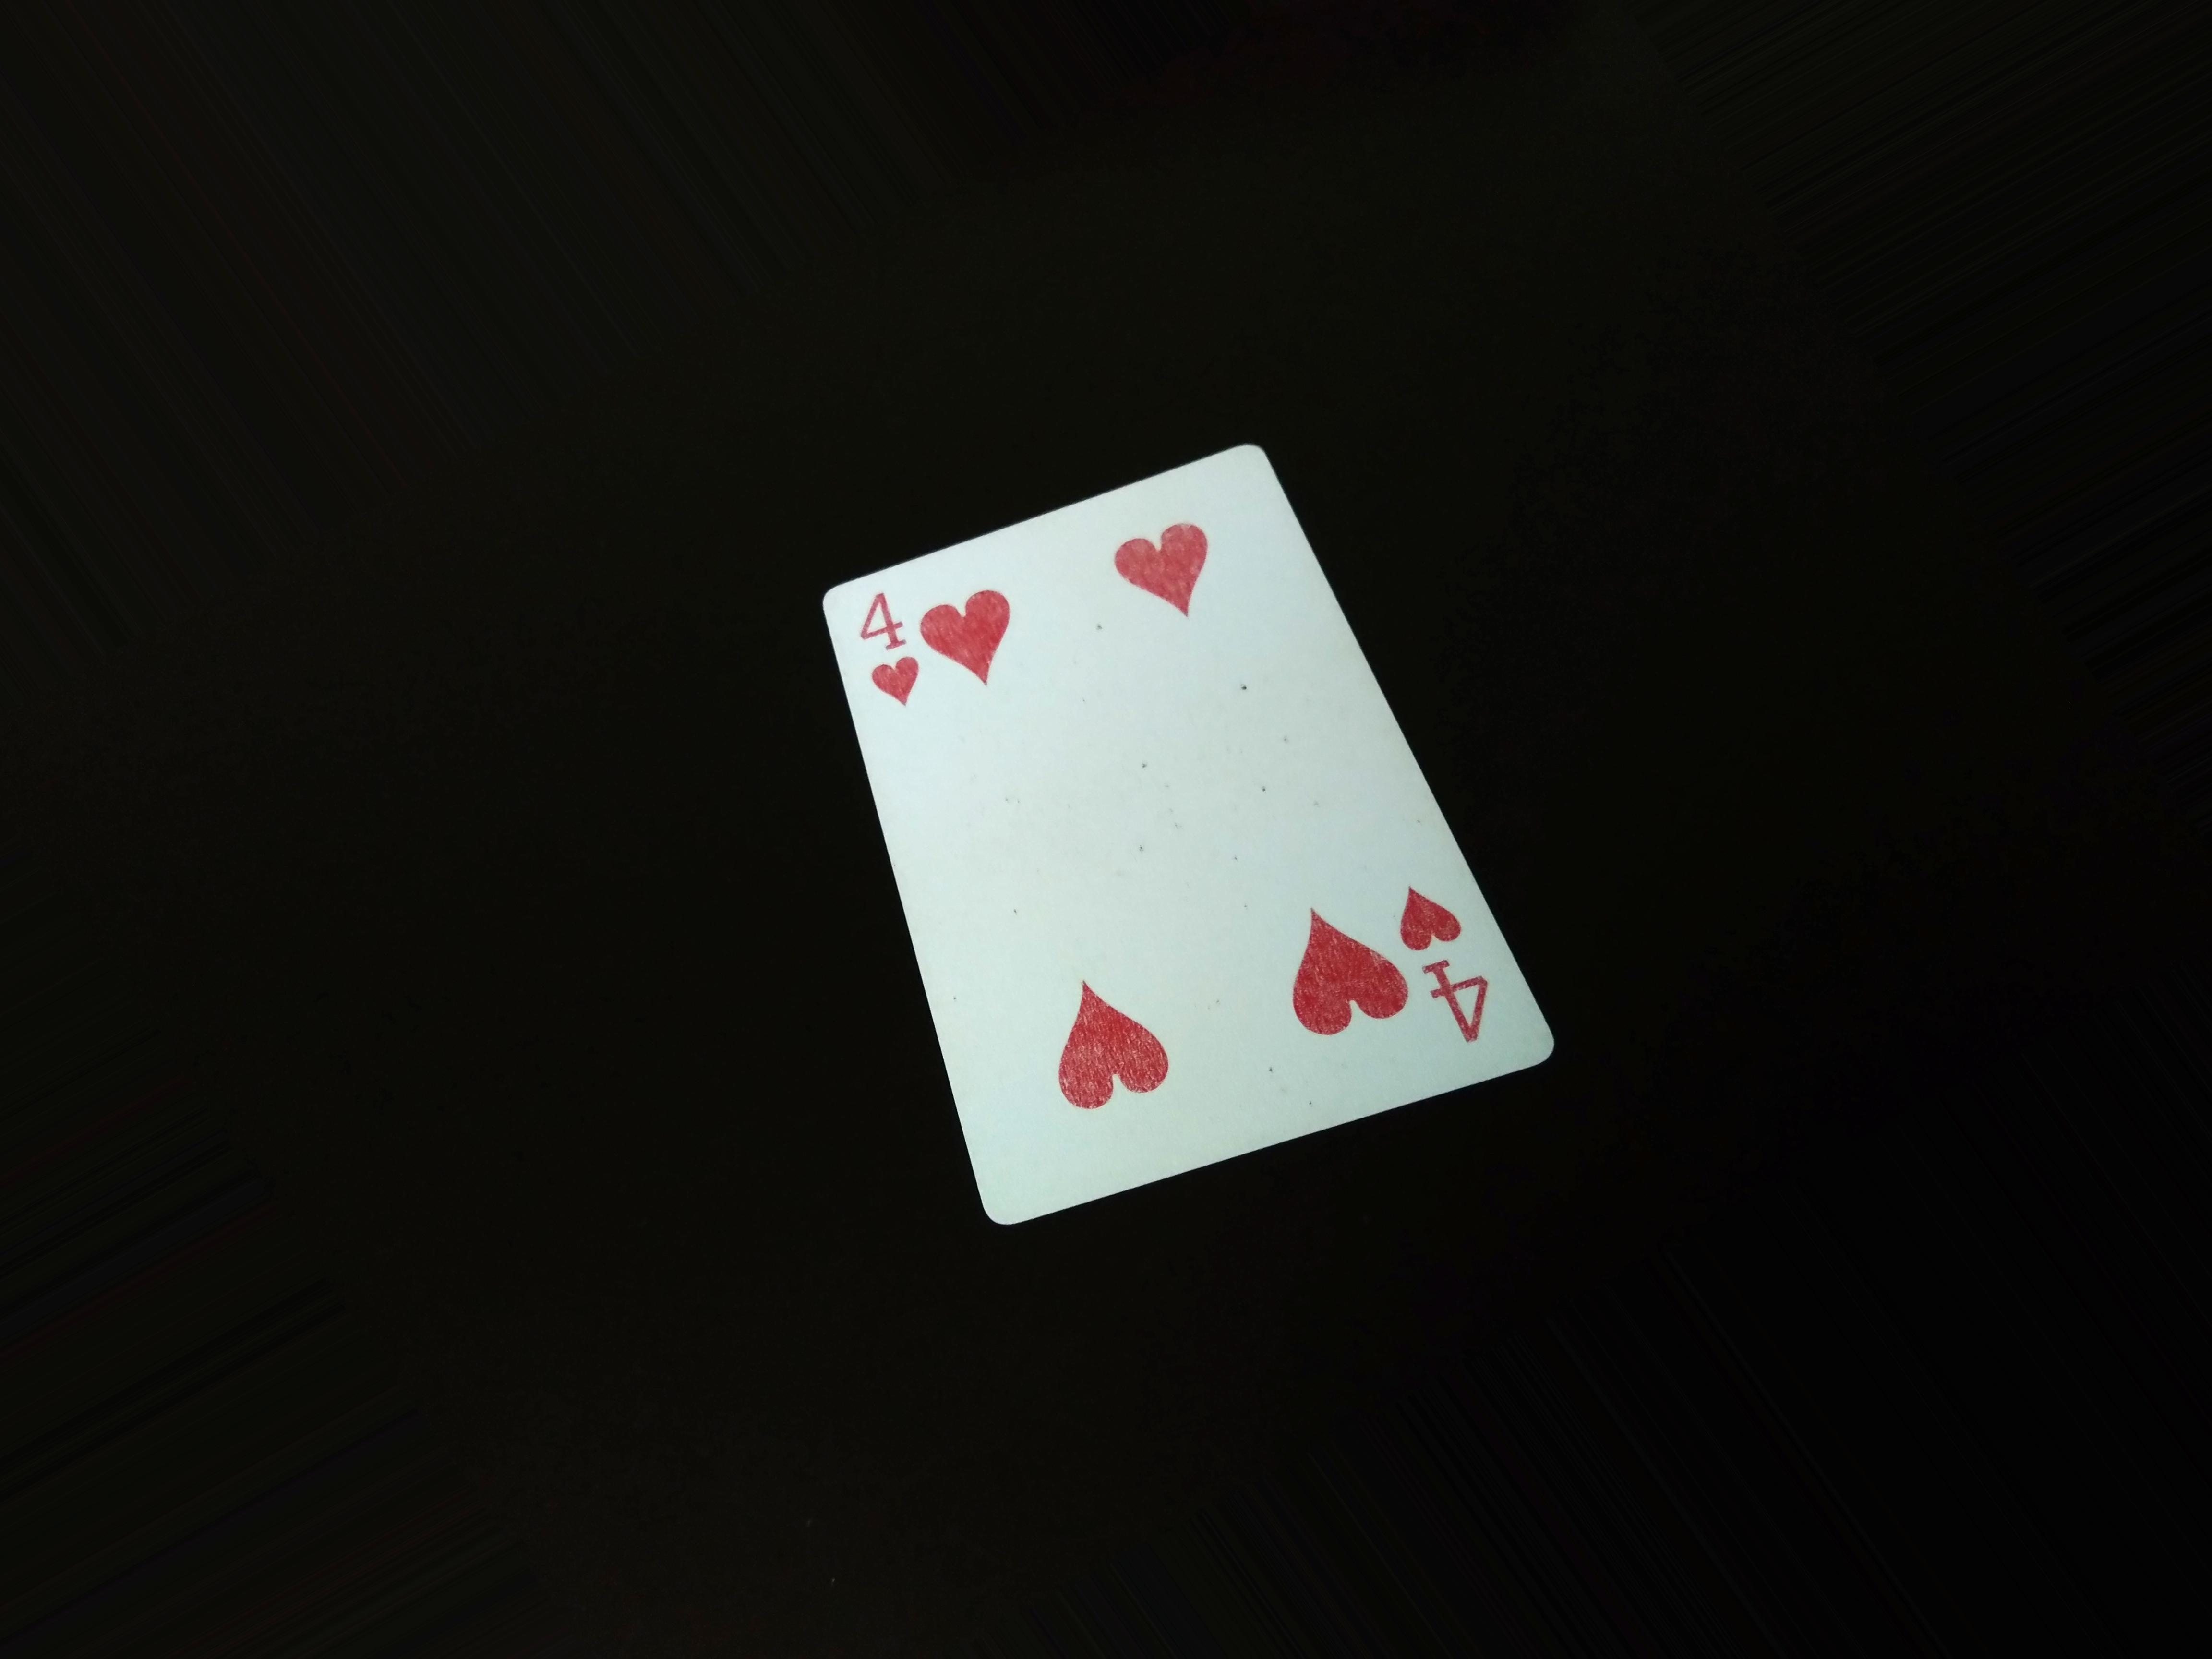4H: (852, 586, 923, 704)
